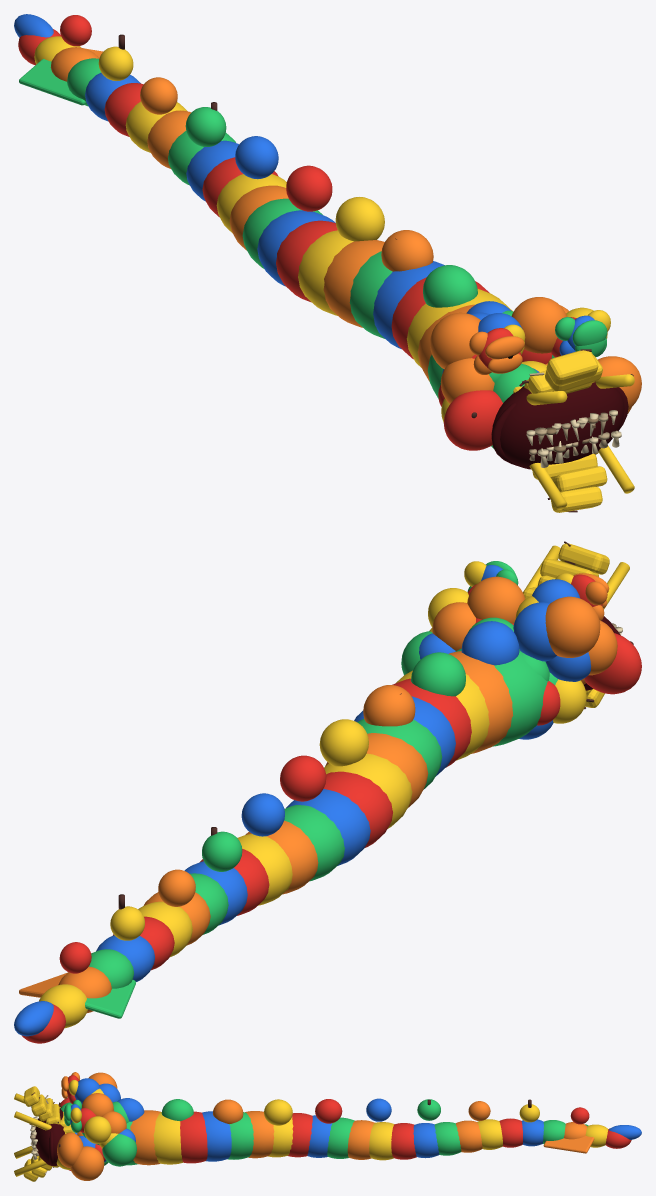
3 renders of one model, top to bottom at view 1: azimuth 30°, elevation 25°; view 2: azimuth 150°, elevation 25°; view 3: azimuth 270°, elevation 25°, orthographic. The views are drawn at different scales.
Visible parts, largest first — view 1: mouth_cavity, cheek_l, body_fused_ball_07, body_fused_ball_08, fused_skull_ball_14, fused_skull_ball_39, body_fused_ball_09, body_fused_ball_05, body_fused_ball_06, ridge_02, ridge_04, body_fused_ball_10 (+31 smaller); view 2: fused_skull_ball_39, body_fused_ball_01, body_fused_ball_02, body_fused_ball_09, body_fused_ball_10, body_fused_ball_11, body_fused_ball_08, ridge_01, fused_skull_ball_14, body_fused_ball_07, ridge_02, ridge_04 (+34 smaller); view 3: body_fused_ball_04, body_fused_ball_03, body_fused_ball_02, body_fused_ball_05, body_fused_ball_07, body_fused_ball_06, body_fused_ball_12, fused_skull_ball_09, fused_skull_ball_53, body_fused_ball_09, body_fused_ball_13, body_fused_ball_14 (+40 smaller).
Boxes of the visible parts, x1=… form: mouth_cavity: x1=491, y1=381, x2=624, y2=469; cheek_l: x1=443, y1=390, x2=502, y2=450; body_fused_ball_07: x1=323, y1=240, x2=384, y2=327; body_fused_ball_08: x1=298, y1=230, x2=353, y2=315; fused_skull_ball_14: x1=511, y1=297, x2=567, y2=353; fused_skull_ball_39: x1=430, y1=312, x2=480, y2=369; body_fused_ball_09: x1=276, y1=220, x2=337, y2=302; body_fused_ball_05: x1=373, y1=261, x2=444, y2=349; body_fused_ball_06: x1=349, y1=251, x2=392, y2=338; ridge_02: x1=423, y1=265, x2=477, y2=307; ridge_04: x1=335, y1=197, x2=384, y2=241; body_fused_ball_10: x1=257, y1=210, x2=335, y2=286; fused_skull_ball_39: x1=545, y1=596, x2=600, y2=657; body_fused_ball_01: x1=455, y1=648, x2=548, y2=746; body_fused_ball_02: x1=449, y1=651, x2=513, y2=753; body_fused_ball_09: x1=323, y1=771, x2=392, y2=847; body_fused_ball_10: x1=286, y1=789, x2=370, y2=865; body_fused_ball_11: x1=284, y1=805, x2=344, y2=881; body_fused_ball_08: x1=324, y1=753, x2=412, y2=828; ridge_01: x1=461, y1=621, x2=519, y2=665; fused_skull_ball_14: x1=467, y1=576, x2=525, y2=623; body_fused_ball_07: x1=325, y1=733, x2=428, y2=808; ridge_02: x1=411, y1=652, x2=465, y2=696; ridge_04: x1=319, y1=719, x2=368, y2=766; body_fused_ball_04: x1=180, y1=1111, x2=207, y2=1163; body_fused_ball_03: x1=153, y1=1112, x2=183, y2=1164; body_fused_ball_02: x1=130, y1=1110, x2=160, y2=1165; body_fused_ball_05: x1=202, y1=1111, x2=231, y2=1161; body_fused_ball_07: x1=245, y1=1111, x2=274, y2=1158; body_fused_ball_06: x1=227, y1=1112, x2=253, y2=1159; body_fused_ball_12: x1=347, y1=1120, x2=374, y2=1159; fused_skull_ball_09: x1=70, y1=1146, x2=104, y2=1180; fused_skull_ball_53: x1=102, y1=1134, x2=136, y2=1166; body_fused_ball_09: x1=287, y1=1113, x2=312, y2=1157; body_fused_ball_13: x1=369, y1=1122, x2=394, y2=1160; body_fused_ball_14: x1=391, y1=1123, x2=416, y2=1159.
Bounding box in the file's own units: 1.3 × 1.04 × 6.49.
